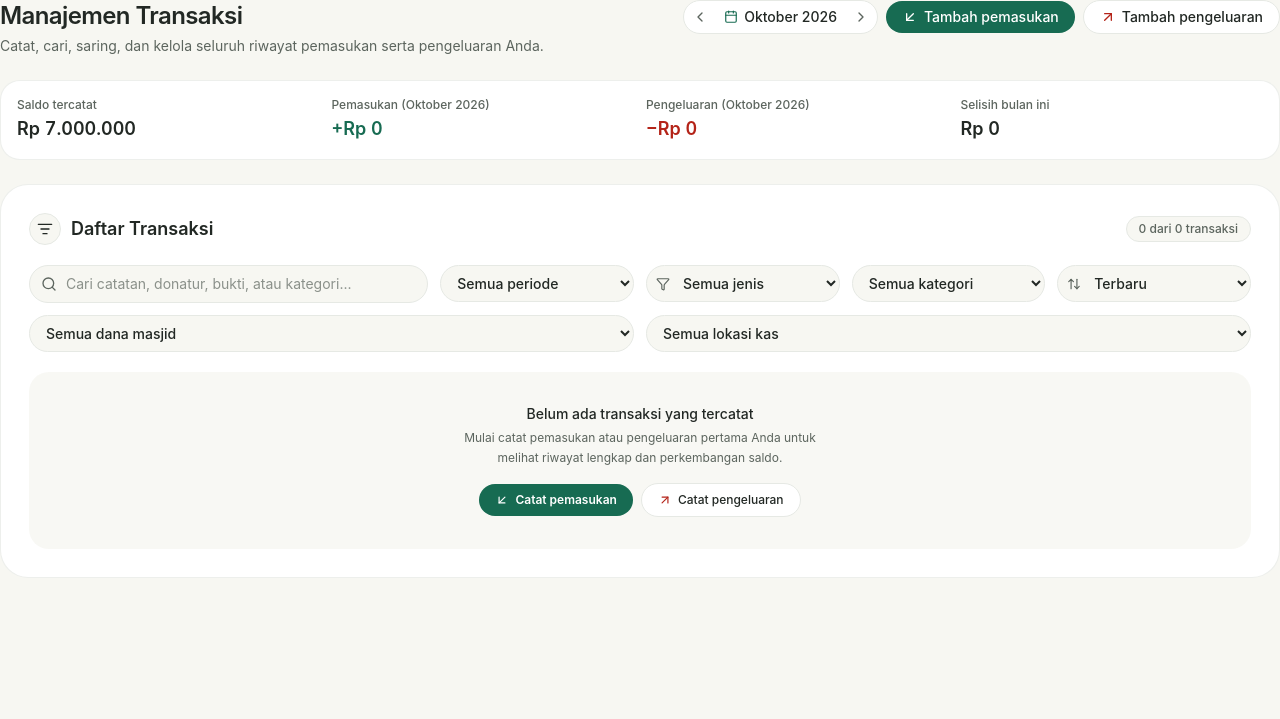
Test case: Nota Mosque Milestone M3 — Mosque Transactions, Fund/Account Filters, & Soft Guard Confirmation › enforces Soft Guard confirmation when an expense exceeds Fund/Account balance or uses a restricted Fund with an operational category
Click the button "Tambah pengeluaran".
click(1181, 17)  # box [1083,0,1279,34]
(page scrolled)
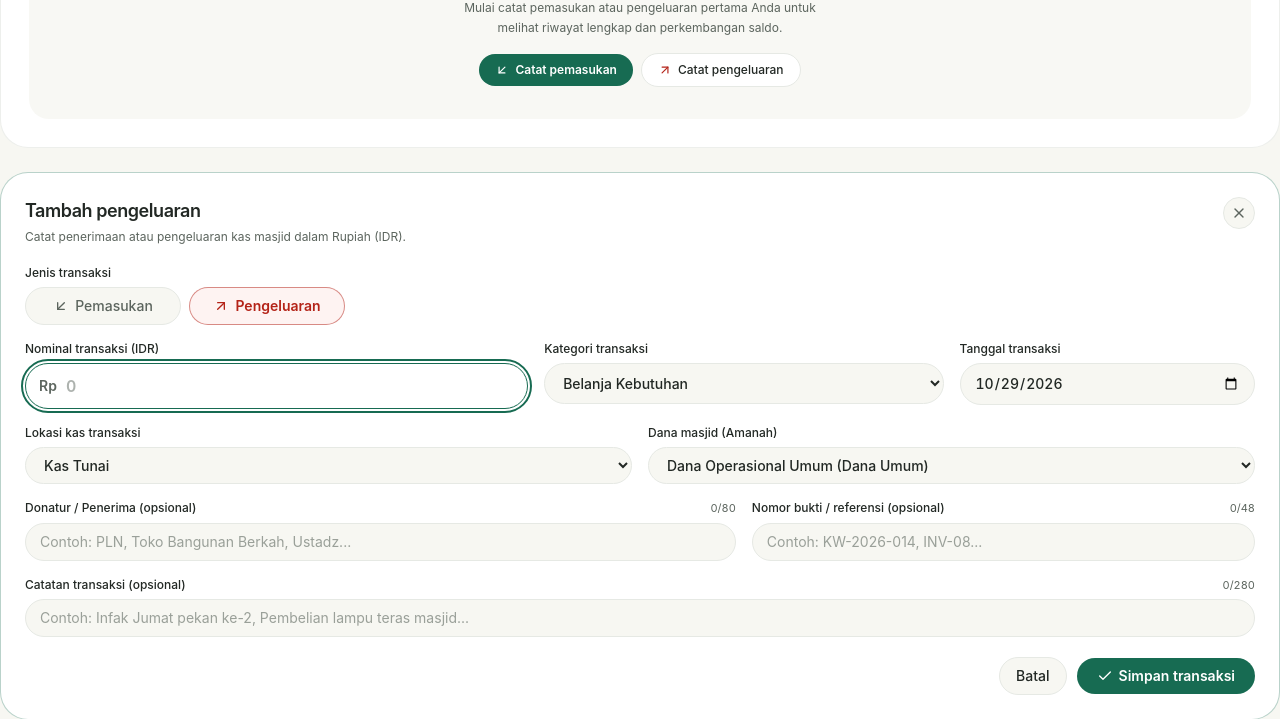
Type "2500000" into the field labelled "Nominal transaksi (IDR)".
click(277, 386); type("2500000")  # box [25,363,528,409]
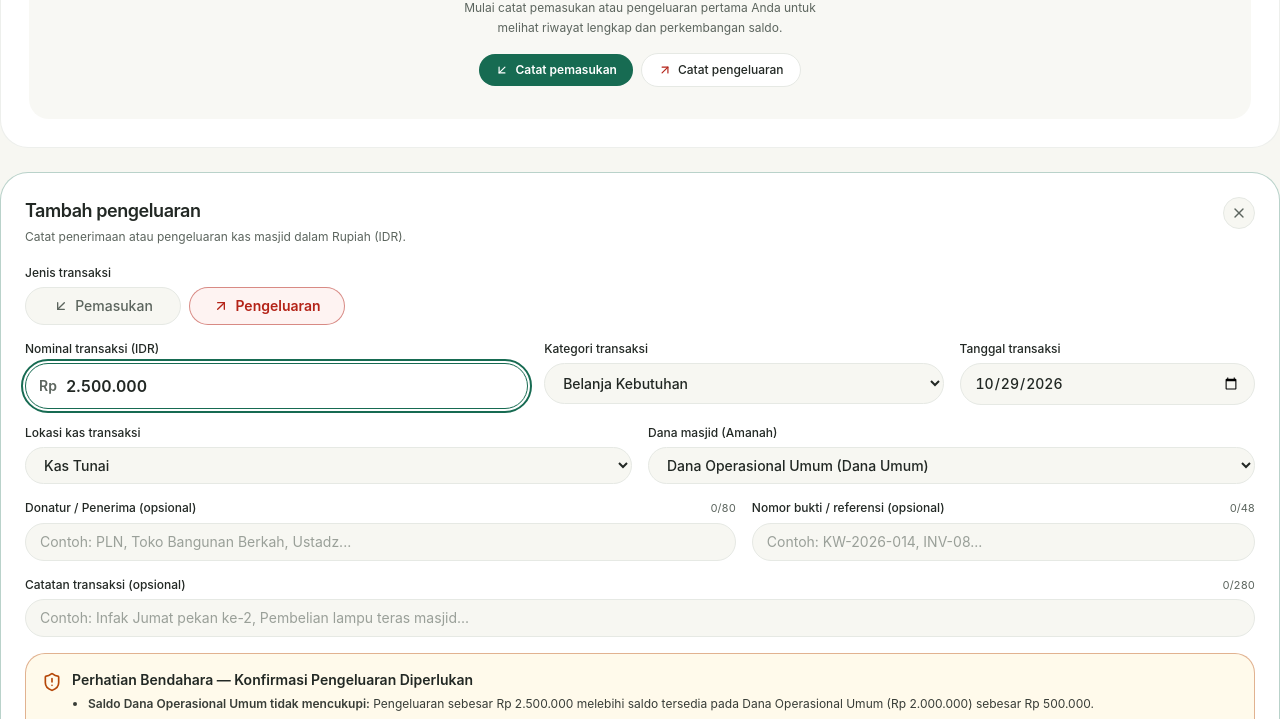
Select "Listrik, Air & Internet Masjid" in the dropdown labelled "Kategori transaksi" at coordinates (744, 384), box [544,363,944,404]
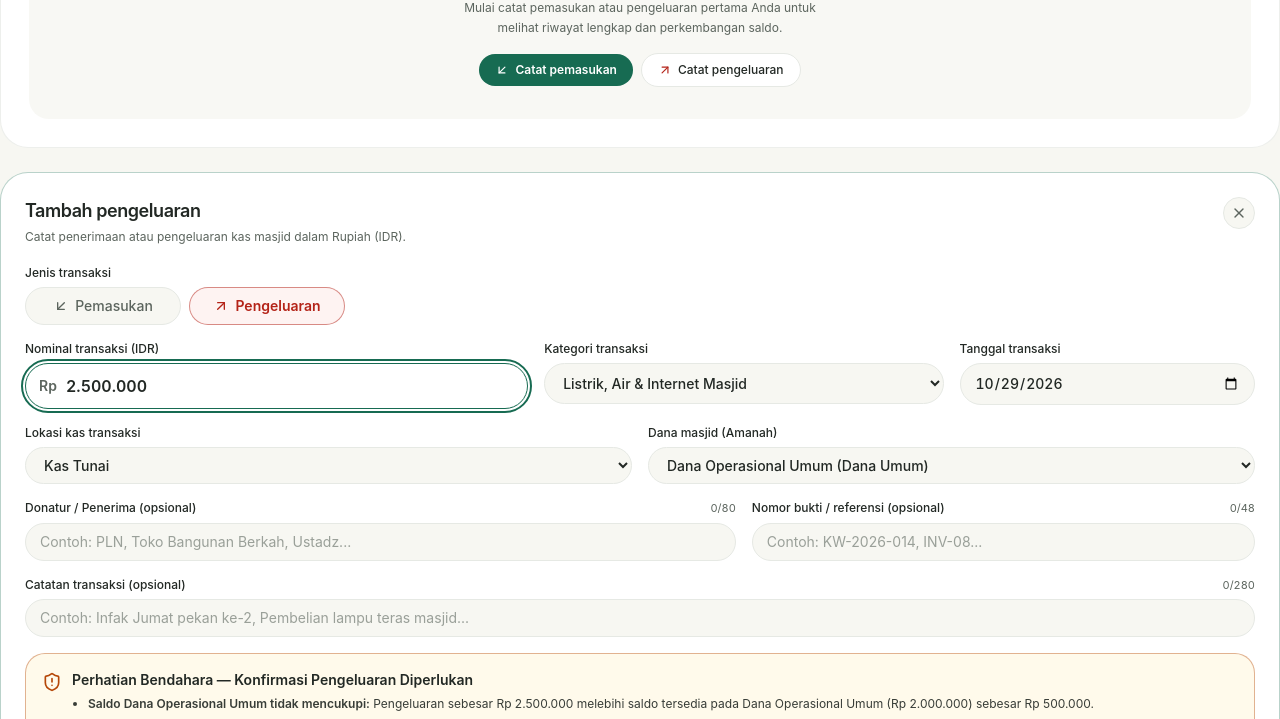
Select "Dana Pembangunan (Dana Terikat)" in the dropdown labelled "Dana masjid (Amanah)" at coordinates (952, 466), box [648,447,1255,484]
(page scrolled)
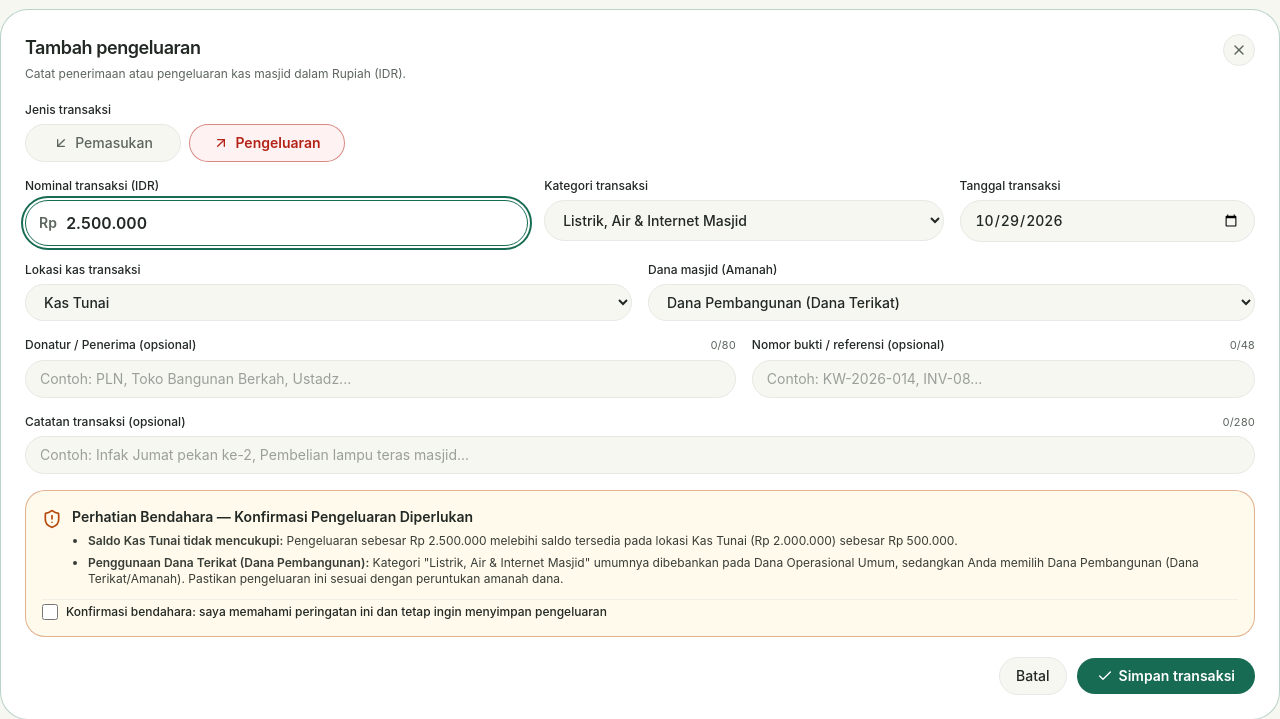
Now the element with test id "soft-guard-warning-banner" is shown, box [25,490,1255,637]
Now the list item with test id "soft-guard-warning-ACCOUNT_DEFICIT" shows "Saldo Kas Tunai tidak mencukupi", box [88,533,279,548]
Now the list item with test id "soft-guard-warning-RESTRICTED_FUND_CATEGORY_MISMATCH" shows "Penggunaan Dana Terikat (Dana Pembangunan)", box [88,555,365,570]
Clicking 'Simpan transaksi' without confirming blocks immediate save
Click the button "Simpan transaksi".
click(1166, 676)  # box [1077,658,1255,694]
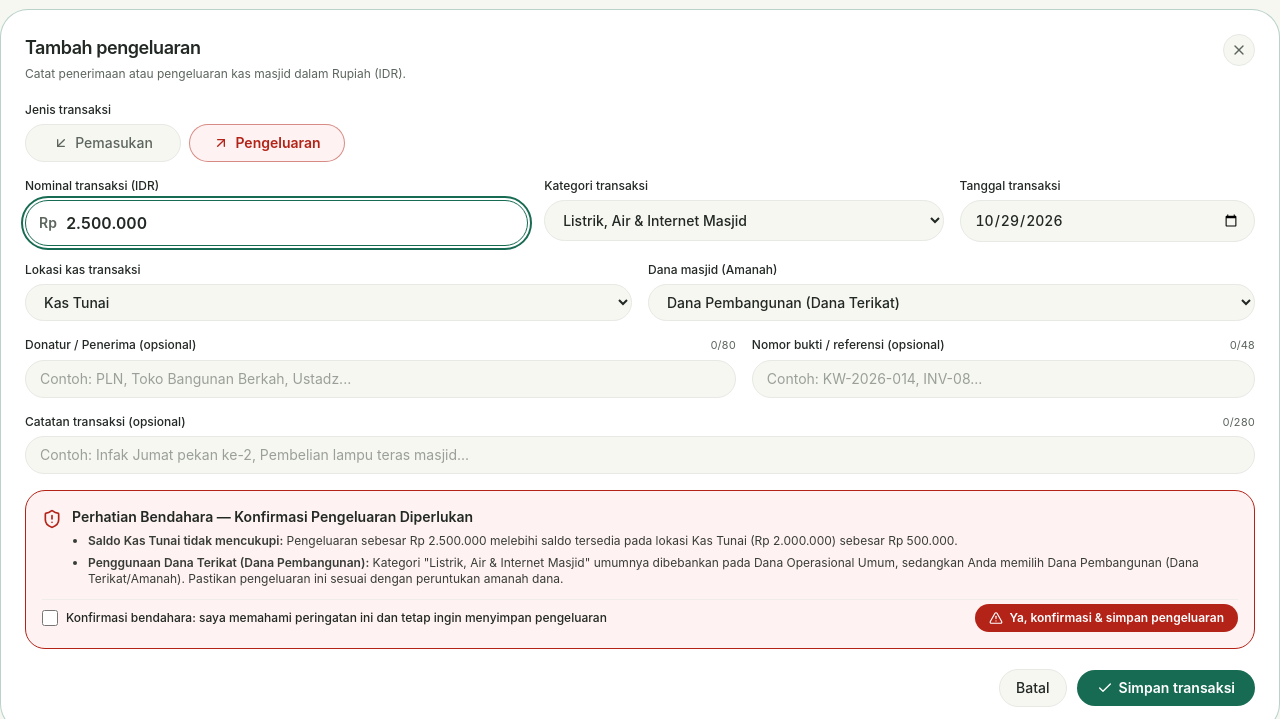
Click the button "Ya, konfirmasi & simpan pengeluaran".
click(1107, 618)  # box [976,604,1238,632]
(page scrolled)
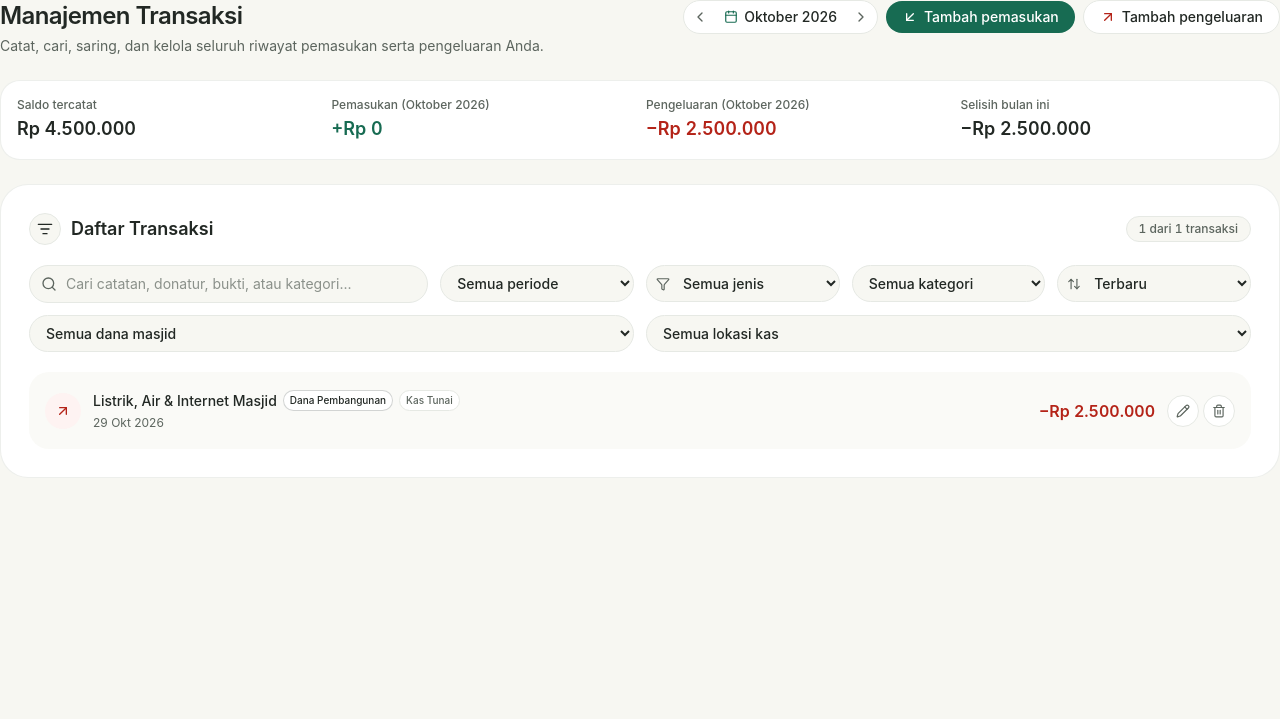
Now the text with test id "current-balance-value" reads "Rp 4.500.000", box [17,118,136,139]
